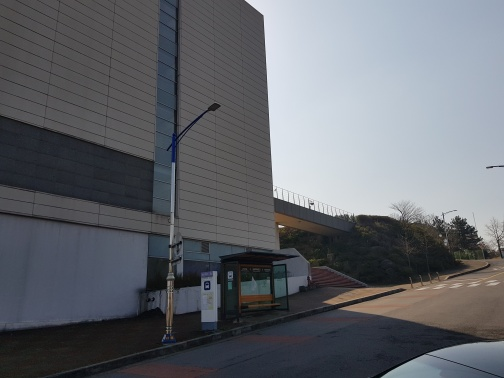Engineering College Building 4: (3, 4, 276, 307), (10, 4, 149, 321), (181, 3, 277, 307)
